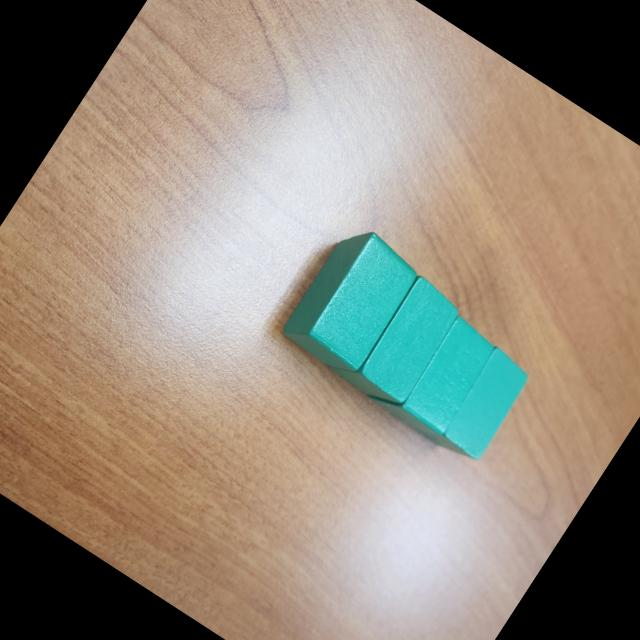green: (276, 217, 426, 383), (324, 259, 466, 416), (360, 296, 502, 450), (404, 327, 536, 470)
